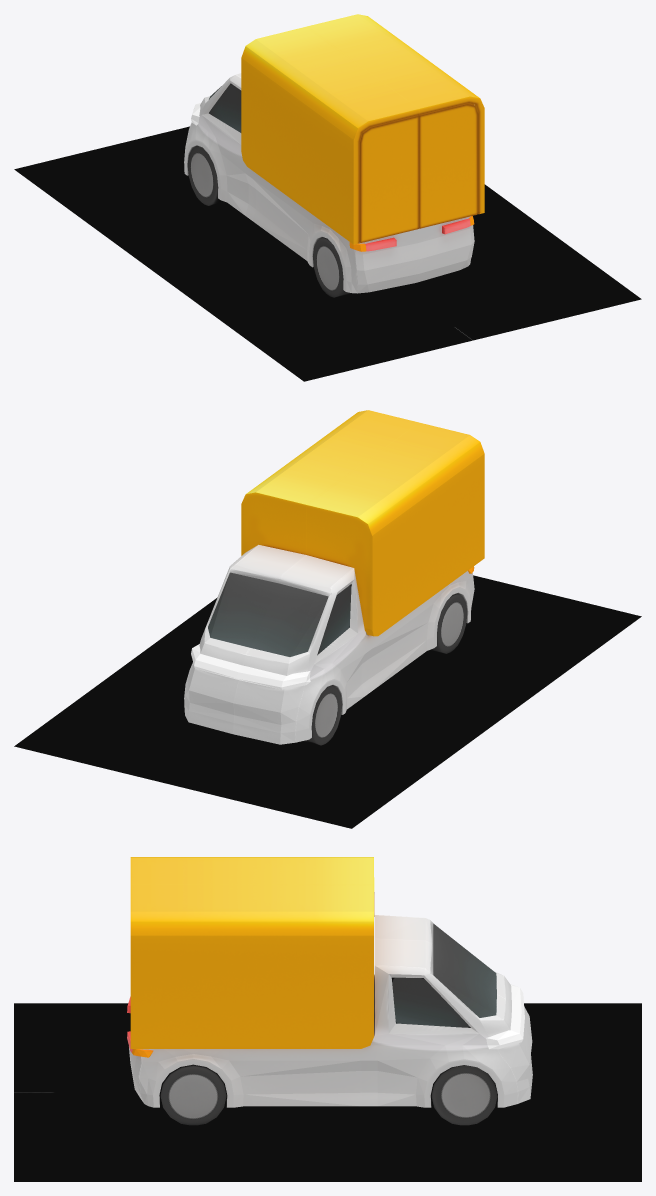
The model's file is truck_small.glb.
The picture shows the model from 3 angles, top to bottom: view 1: azimuth 30°, elevation 25°; view 2: azimuth 150°, elevation 25°; view 3: azimuth 270°, elevation 25°; orthographic projection. The views are drawn at different scales.
Parts seen in each view (by area): view 1: Node; view 2: Node; view 3: Node.
Part boxes in pixels (box(x1,y1,x2,y2)): Node: box(14, 14, 641, 381); Node: box(14, 410, 641, 828); Node: box(14, 857, 641, 1181).
Size of the model in its own units: 67.23 by 36.65 by 100.
1 material, 1 textured.
